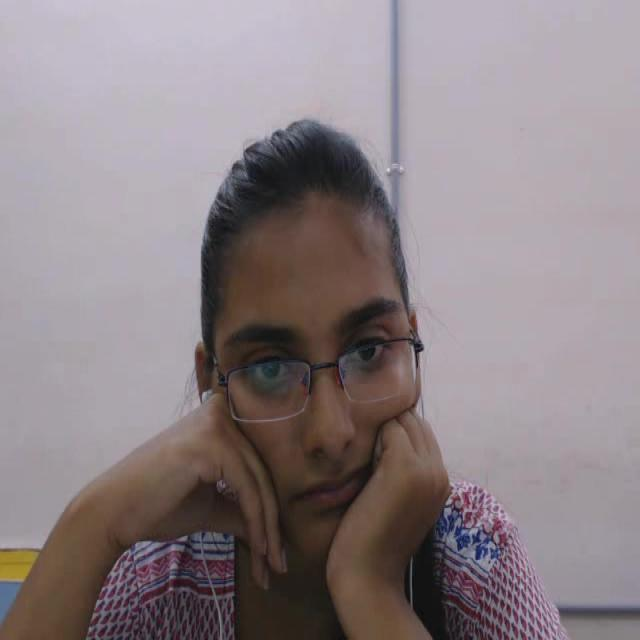Bored: (174, 88, 463, 604)
